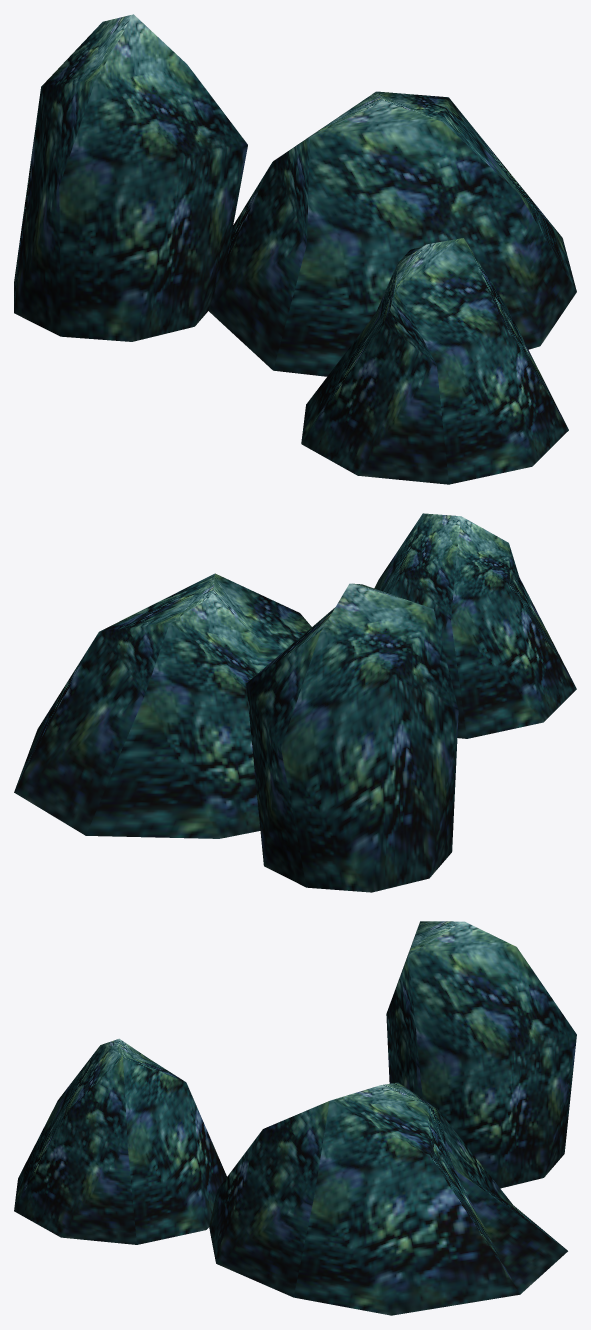
File: rocks05.obj
The picture shows the model from 3 angles, top to bottom: view 1: azimuth 30°, elevation 25°; view 2: azimuth 150°, elevation 25°; view 3: azimuth 270°, elevation 25°; orthographic projection. The views are drawn at different scales.
Visible parts, largest first — view 1: North_Rocks9; view 2: North_Rocks9; view 3: North_Rocks9.
Boxes of the visible parts, x1,y1,x2,y2 form: North_Rocks9: [14, 14, 576, 484]; North_Rocks9: [14, 513, 576, 892]; North_Rocks9: [14, 921, 576, 1315].
Size of the model in its own units: 4.42 by 2.47 by 5.3.
1 material, 1 textured.
